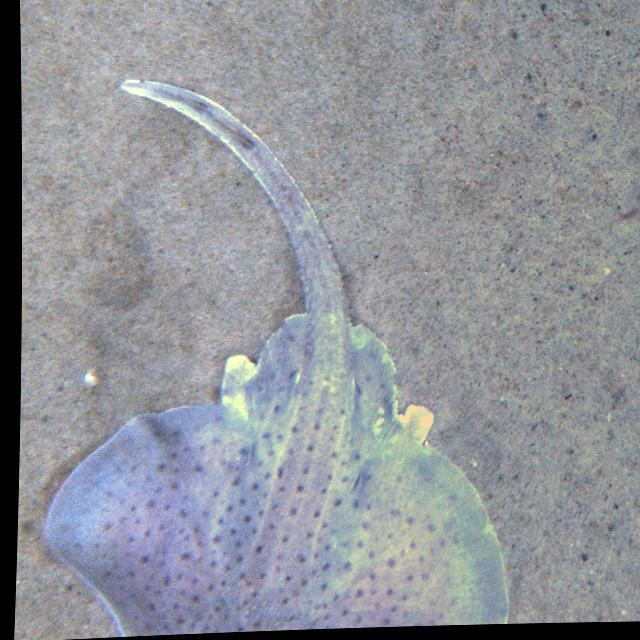skate: (48, 74, 526, 626)
